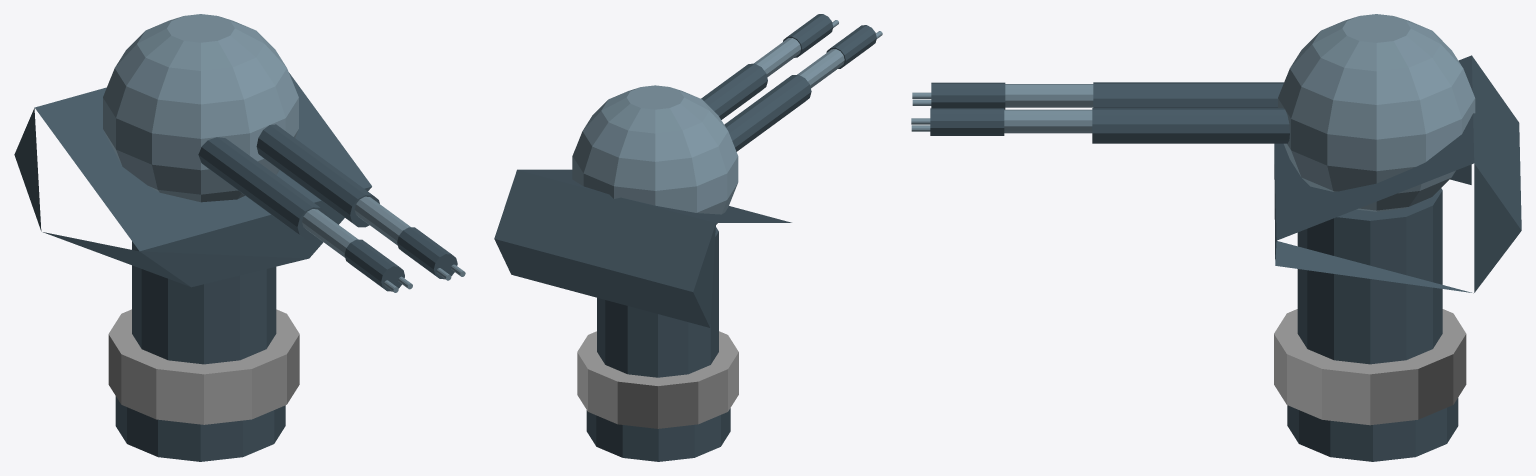
Rendered from Turet.glb.
3 views of the same model, side by side, from view 1: azimuth 30°, elevation 25°; view 2: azimuth 150°, elevation 25°; view 3: azimuth 270°, elevation 25° (orthographic). The views are drawn at different scales.
Parts seen in each view (by area): view 1: group1605697989, group660072252, group212084564, group1745720558, group597692402, group508792285, group1093704232, group1419488449, group1661819289, group255883196, group355693088; view 2: group660072252, group1605697989, group212084564, group1745720558, group597692402, group508792285, group1093704232, group1419488449, group1661819289, group355693088, group255883196; view 3: group1605697989, group1745720558, group660072252, group212084564, group1093704232, group597692402, group508792285, group255883196, group355693088, group1661819289, group1419488449.
Part boxes in pixels (x1,y1,x2,y2): group1605697989: (103, 14, 298, 202); group660072252: (14, 73, 371, 287); group212084564: (108, 309, 299, 424); group1745720558: (132, 241, 276, 364); group597692402: (115, 396, 285, 461); group508792285: (198, 137, 327, 239); group1093704232: (256, 124, 379, 227); group1419488449: (344, 239, 404, 291); group1661819289: (397, 227, 457, 279); group255883196: (354, 196, 410, 245); group355693088: (302, 209, 358, 257); group660072252: (494, 169, 791, 327); group1605697989: (572, 85, 738, 224); group212084564: (577, 331, 738, 428); group1745720558: (597, 227, 718, 377); group597692402: (586, 408, 730, 461); group508792285: (724, 74, 811, 151); group1093704232: (701, 63, 767, 119); group1419488449: (826, 25, 876, 68); group1661819289: (783, 14, 833, 57); group355693088: (797, 49, 844, 88); group255883196: (754, 38, 800, 77); group1605697989: (1278, 14, 1475, 211); group1745720558: (1297, 188, 1442, 364); group660072252: (1274, 55, 1521, 293); group212084564: (1274, 309, 1466, 425); group1093704232: (1092, 108, 1289, 143); group597692402: (1287, 398, 1458, 461); group508792285: (1093, 82, 1283, 107); group255883196: (1004, 109, 1092, 133); group355693088: (1005, 84, 1093, 107); group1661819289: (930, 108, 1004, 135); group1419488449: (931, 82, 1005, 109).
Bounding box in the file's own units: 1.06 × 1.69 × 2.32.
